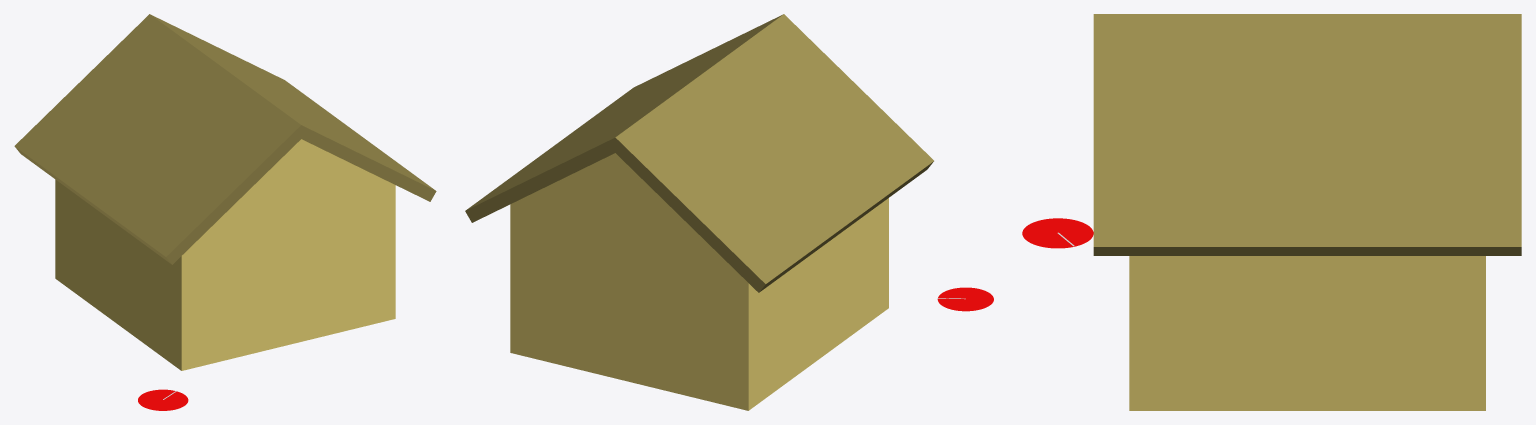
File: result.glb
3 renders of one model, left to right at view 1: azimuth 30°, elevation 25°; view 2: azimuth 150°, elevation 25°; view 3: azimuth 270°, elevation 25°, orthographic. The views are drawn at different scales.
Visible parts, largest first — view 1: 32a49155-ab4b-4be8-9750-75f4a04b6a1f__undefined, 7d90666c-1019-46c0-b136-7b8771430e2c__undefined (×2), b9bd1a2e-be73-49dc-b094-3b7a2d327556__Circle; view 2: 32a49155-ab4b-4be8-9750-75f4a04b6a1f__undefined, 7d90666c-1019-46c0-b136-7b8771430e2c__undefined (×2), b9bd1a2e-be73-49dc-b094-3b7a2d327556__Circle; view 3: 7d90666c-1019-46c0-b136-7b8771430e2c__undefined, 32a49155-ab4b-4be8-9750-75f4a04b6a1f__undefined, b9bd1a2e-be73-49dc-b094-3b7a2d327556__Circle.
Boxes of the visible parts, box(x1,y1,x2,y2) form: 32a49155-ab4b-4be8-9750-75f4a04b6a1f__undefined: box(55, 139, 395, 370); 7d90666c-1019-46c0-b136-7b8771430e2c__undefined (×2): box(14, 14, 436, 264); b9bd1a2e-be73-49dc-b094-3b7a2d327556__Circle: box(138, 389, 188, 410); 32a49155-ab4b-4be8-9750-75f4a04b6a1f__undefined: box(510, 153, 888, 410); 7d90666c-1019-46c0-b136-7b8771430e2c__undefined (×2): box(465, 14, 933, 292); b9bd1a2e-be73-49dc-b094-3b7a2d327556__Circle: box(937, 287, 993, 311); 7d90666c-1019-46c0-b136-7b8771430e2c__undefined: box(1093, 14, 1521, 255); 32a49155-ab4b-4be8-9750-75f4a04b6a1f__undefined: box(1129, 256, 1485, 410); b9bd1a2e-be73-49dc-b094-3b7a2d327556__Circle: box(1022, 218, 1093, 248).
Bounding box in the file's own units: 703 × 500 × 700.
